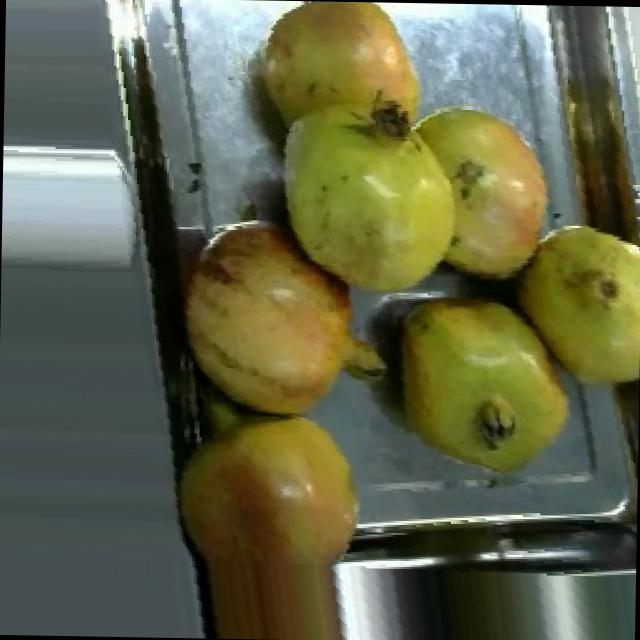fruit: (256, 69, 490, 315), (170, 188, 402, 436), (161, 395, 383, 640), (374, 279, 594, 489), (238, 0, 437, 154), (508, 205, 640, 399)
